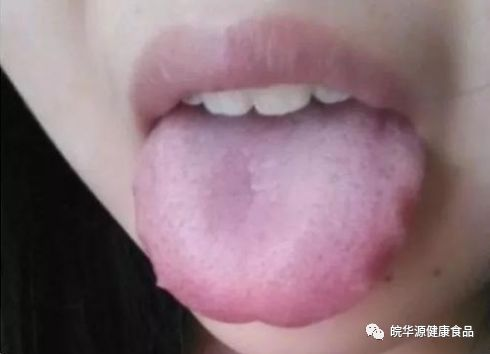baitaishe: (133, 114, 427, 328)
chihenshe: (352, 170, 421, 290), (134, 195, 167, 298)
liewenshe: (236, 145, 259, 202)
pangdashe: (133, 114, 427, 328)
